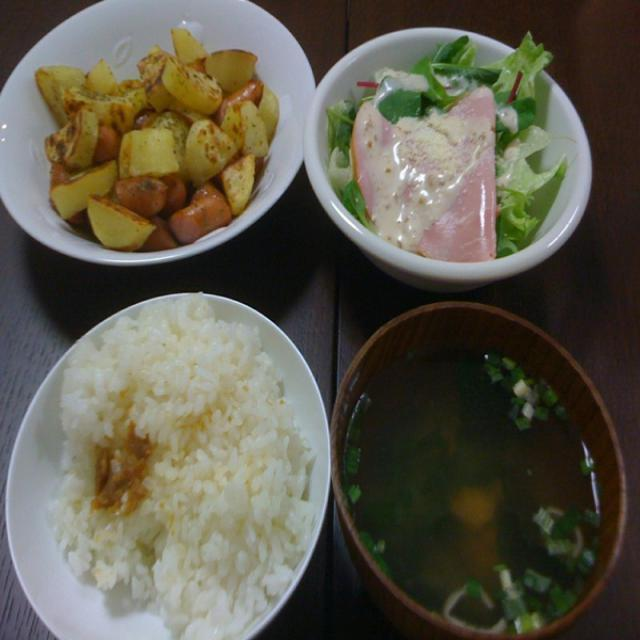Rice: (16, 272, 349, 639)
